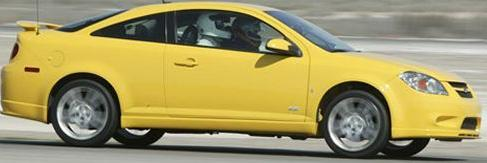front_view: (395, 64, 487, 148)
headlight: (397, 66, 452, 100)
side_glass: (89, 7, 305, 63)
